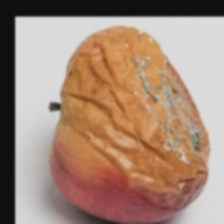apple: (16, 10, 183, 183)
